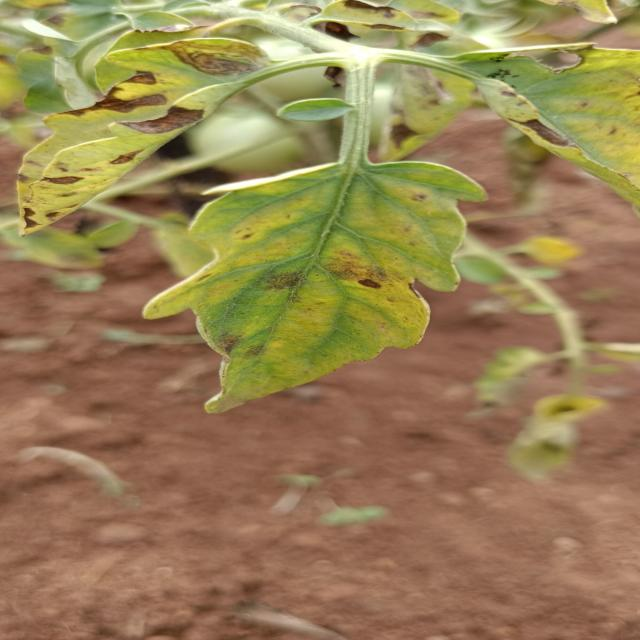tomato_early blight: (142, 160, 484, 413), (15, 36, 285, 233), (465, 47, 640, 205)
